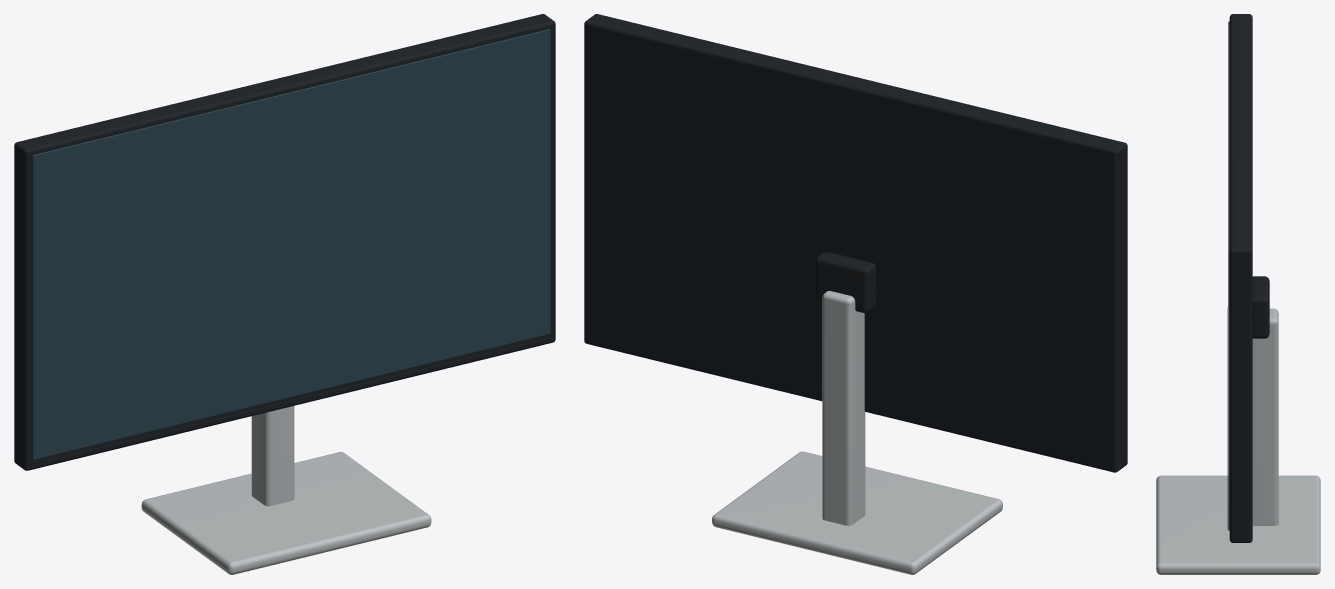
The model's file is lod0_source.glb.
3 views of the same model, side by side, from view 1: azimuth 30°, elevation 25°; view 2: azimuth 150°, elevation 25°; view 3: azimuth 270°, elevation 25° (orthographic). The views are drawn at different scales.
Parts seen in each view (by area): view 1: Neutral screen, Monitor bezel, Stand base, Stand neck, Lower bezel fine reveal; view 2: Monitor bezel, Stand base, Stand neck, Plain rear hinge inferred; view 3: Stand base, Monitor bezel, Stand neck, Plain rear hinge inferred, Neutral screen.
Boxes of the visible parts, box(x1,y1,x2,y2) form: Neutral screen: box(32, 29, 550, 459); Monitor bezel: box(14, 14, 555, 470); Stand base: box(141, 452, 431, 574); Stand neck: box(251, 406, 294, 506); Lower bezel fine reveal: box(43, 340, 541, 461); Monitor bezel: box(584, 14, 1127, 472); Stand base: box(712, 451, 1002, 574); Stand neck: box(822, 290, 865, 525); Plain rear hinge inferred: box(815, 252, 876, 313); Stand base: box(1156, 475, 1320, 574); Monitor bezel: box(1229, 14, 1252, 542); Stand neck: box(1252, 308, 1278, 525); Plain rear hinge inferred: box(1252, 276, 1269, 338); Neutral screen: box(1228, 21, 1229, 530).
Size of the model in its own units: 0.614 by 0.4825 by 0.18.
